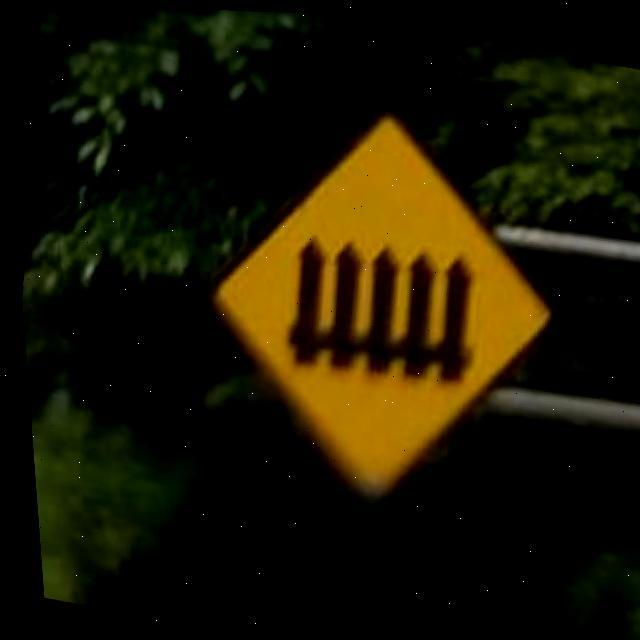Peringatan Perlintasan Kereta Api: (186, 85, 572, 512)
